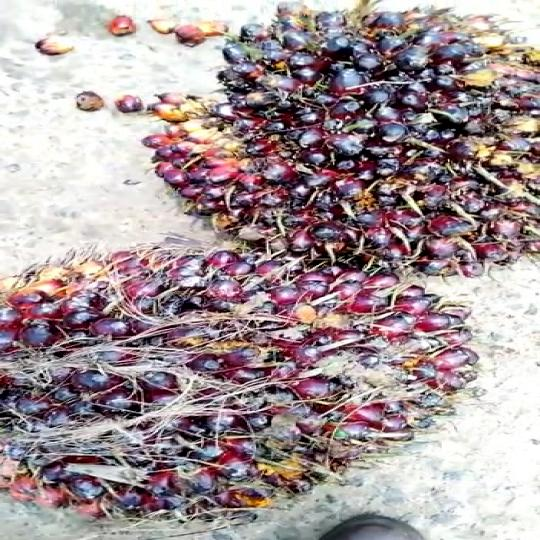kurang masak: (0, 236, 487, 530), (117, 0, 540, 281)
